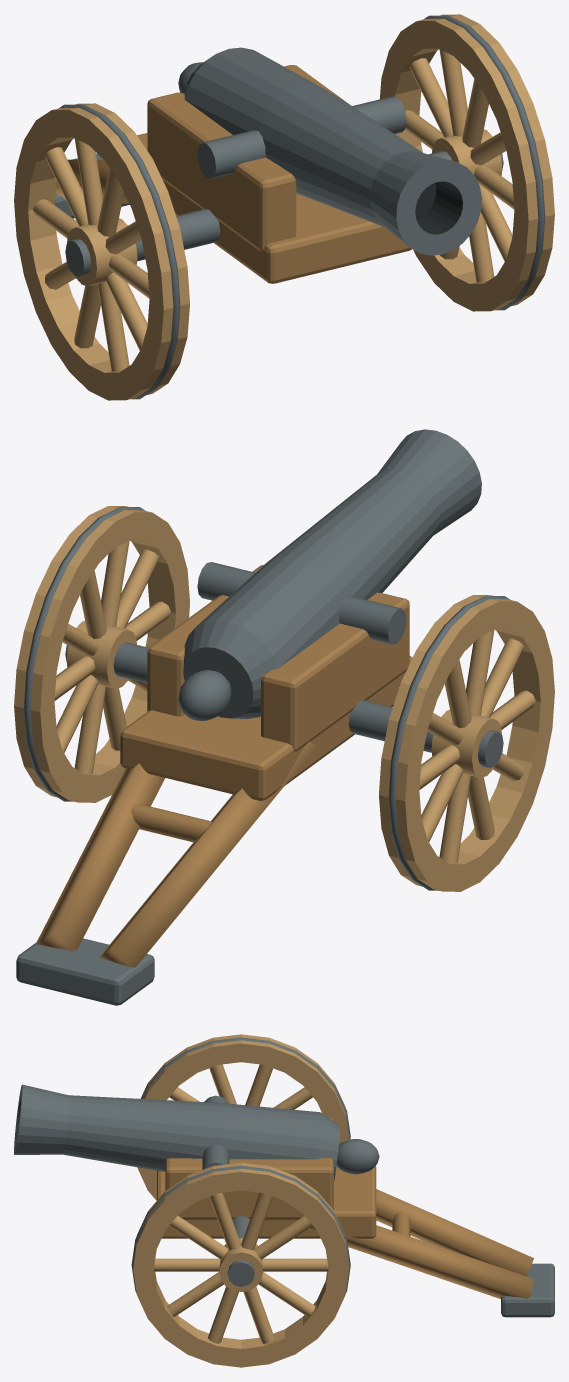
File: cannon_field.glb
3 renders of one model, top to bottom at view 1: azimuth 30°, elevation 25°; view 2: azimuth 150°, elevation 25°; view 3: azimuth 270°, elevation 25°, orthographic. The views are drawn at different scales.
Parts seen in each view (by area): view 1: Field cannon hollow-looking barrel, Field cannon wheel wooden rim, Field cannon wheel wooden rim.001, Field cannon carriage cheek, Field cannon wooden axle bed, Field cannon barrel trunnions, Field cannon wheel iron tire, Field cannon wheel iron tire.001, Field cannon wheel wooden hub, Field cannon main axle, Field cannon wheel wooden spoke.007, Field cannon wheel wooden spoke.002 (+19 smaller); view 2: Field cannon hollow-looking barrel, Field cannon wheel wooden rim, Field cannon wheel wooden rim.001, Field cannon wooden axle bed, Field cannon carriage cheek, Field cannon long trail beam, Field cannon long trail beam.001, Field cannon trail ground shoe, Field cannon barrel trunnions, Field cannon carriage cheek.001, Field cannon main axle, Field cannon wheel iron tire.001 (+24 smaller); view 3: Field cannon hollow-looking barrel, Field cannon wheel wooden rim.001, Field cannon wheel wooden rim, Field cannon long trail beam.001, Field cannon carriage cheek.001, Field cannon wooden axle bed, Field cannon long trail beam, Field cannon trail ground shoe, Field cannon rear rounded knob, Field cannon wheel wooden hub.001, Field cannon wheel iron tire.001, Field cannon wheel wooden spoke.015 (+15 smaller).
Boxes of the visible parts, bbox=[...] form: Field cannon hollow-looking barrel: bbox=[184, 47, 481, 255]; Field cannon wheel wooden rim: bbox=[14, 103, 189, 400]; Field cannon wheel wooden rim.001: bbox=[380, 14, 554, 311]; Field cannon carriage cheek: bbox=[147, 92, 296, 251]; Field cannon wooden axle bed: bbox=[137, 133, 411, 283]; Field cannon barrel trunnions: bbox=[197, 96, 406, 178]; Field cannon wheel iron tire: bbox=[59, 104, 180, 399]; Field cannon wheel iron tire.001: bbox=[424, 15, 545, 310]; Field cannon wheel wooden hub: bbox=[67, 218, 137, 286]; Field cannon main axle: bbox=[135, 151, 451, 261]; Field cannon wheel wooden spoke.007: bbox=[97, 281, 129, 371]; Field cannon wheel wooden spoke.002: bbox=[74, 138, 102, 225]; Field cannon hollow-looking barrel: bbox=[183, 429, 481, 718]; Field cannon wheel wooden rim: bbox=[379, 595, 554, 891]; Field cannon wheel wooden rim.001: bbox=[14, 506, 189, 802]; Field cannon wooden axle bed: bbox=[120, 656, 412, 800]; Field cannon carriage cheek: bbox=[261, 592, 409, 751]; Field cannon long trail beam: bbox=[100, 741, 315, 967]; Field cannon long trail beam.001: bbox=[36, 763, 164, 950]; Field cannon trail ground shoe: bbox=[16, 938, 154, 1005]; Field cannon barrel trunnions: bbox=[197, 562, 406, 644]; Field cannon carriage cheek.001: bbox=[147, 565, 263, 716]; Field cannon main axle: bbox=[113, 642, 433, 752]; Field cannon wheel iron tire.001: bbox=[23, 506, 145, 801]; Field cannon hollow-looking barrel: bbox=[14, 1084, 339, 1180]; Field cannon wheel wooden rim.001: bbox=[133, 1162, 349, 1367]; Field cannon wheel wooden rim: bbox=[137, 1034, 349, 1200]; Field cannon long trail beam.001: bbox=[310, 1225, 534, 1298]; Field cannon carriage cheek.001: bbox=[165, 1158, 333, 1219]; Field cannon wooden axle bed: bbox=[157, 1166, 376, 1238]; Field cannon long trail beam: bbox=[376, 1189, 533, 1275]; Field cannon trail ground shoe: bbox=[501, 1263, 554, 1317]; Field cannon rear rounded knob: bbox=[336, 1139, 379, 1174]; Field cannon wheel wooden hub.001: bbox=[219, 1238, 262, 1291]; Field cannon wheel iron tire.001: bbox=[131, 1165, 350, 1293]; Field cannon wheel wooden spoke.015: bbox=[154, 1258, 220, 1271].
Bounding box in the file's own units: 2.07 × 1.39 × 3.21.
